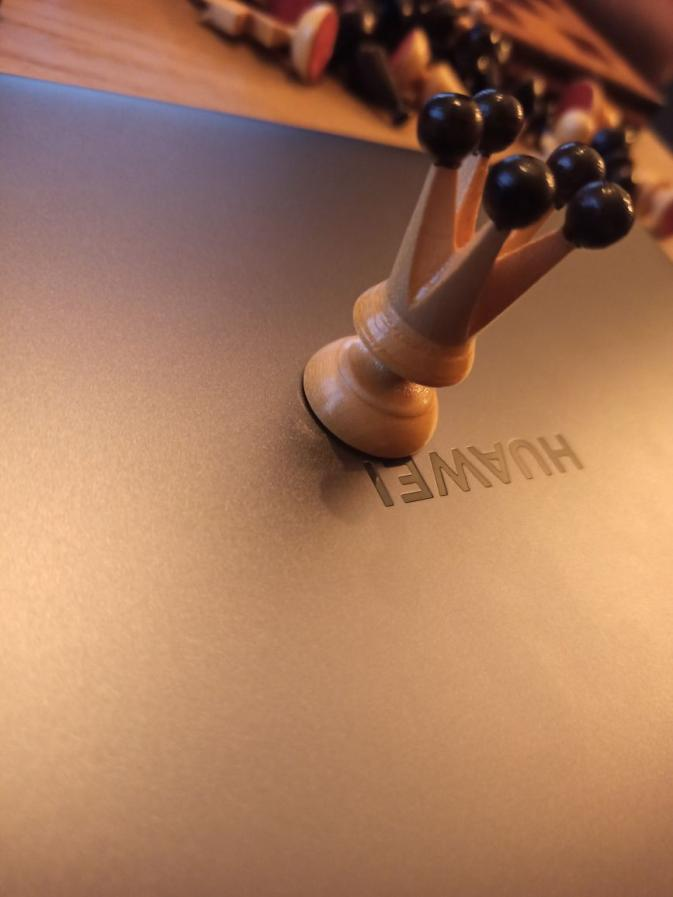wqueen: (303, 87, 639, 466)
